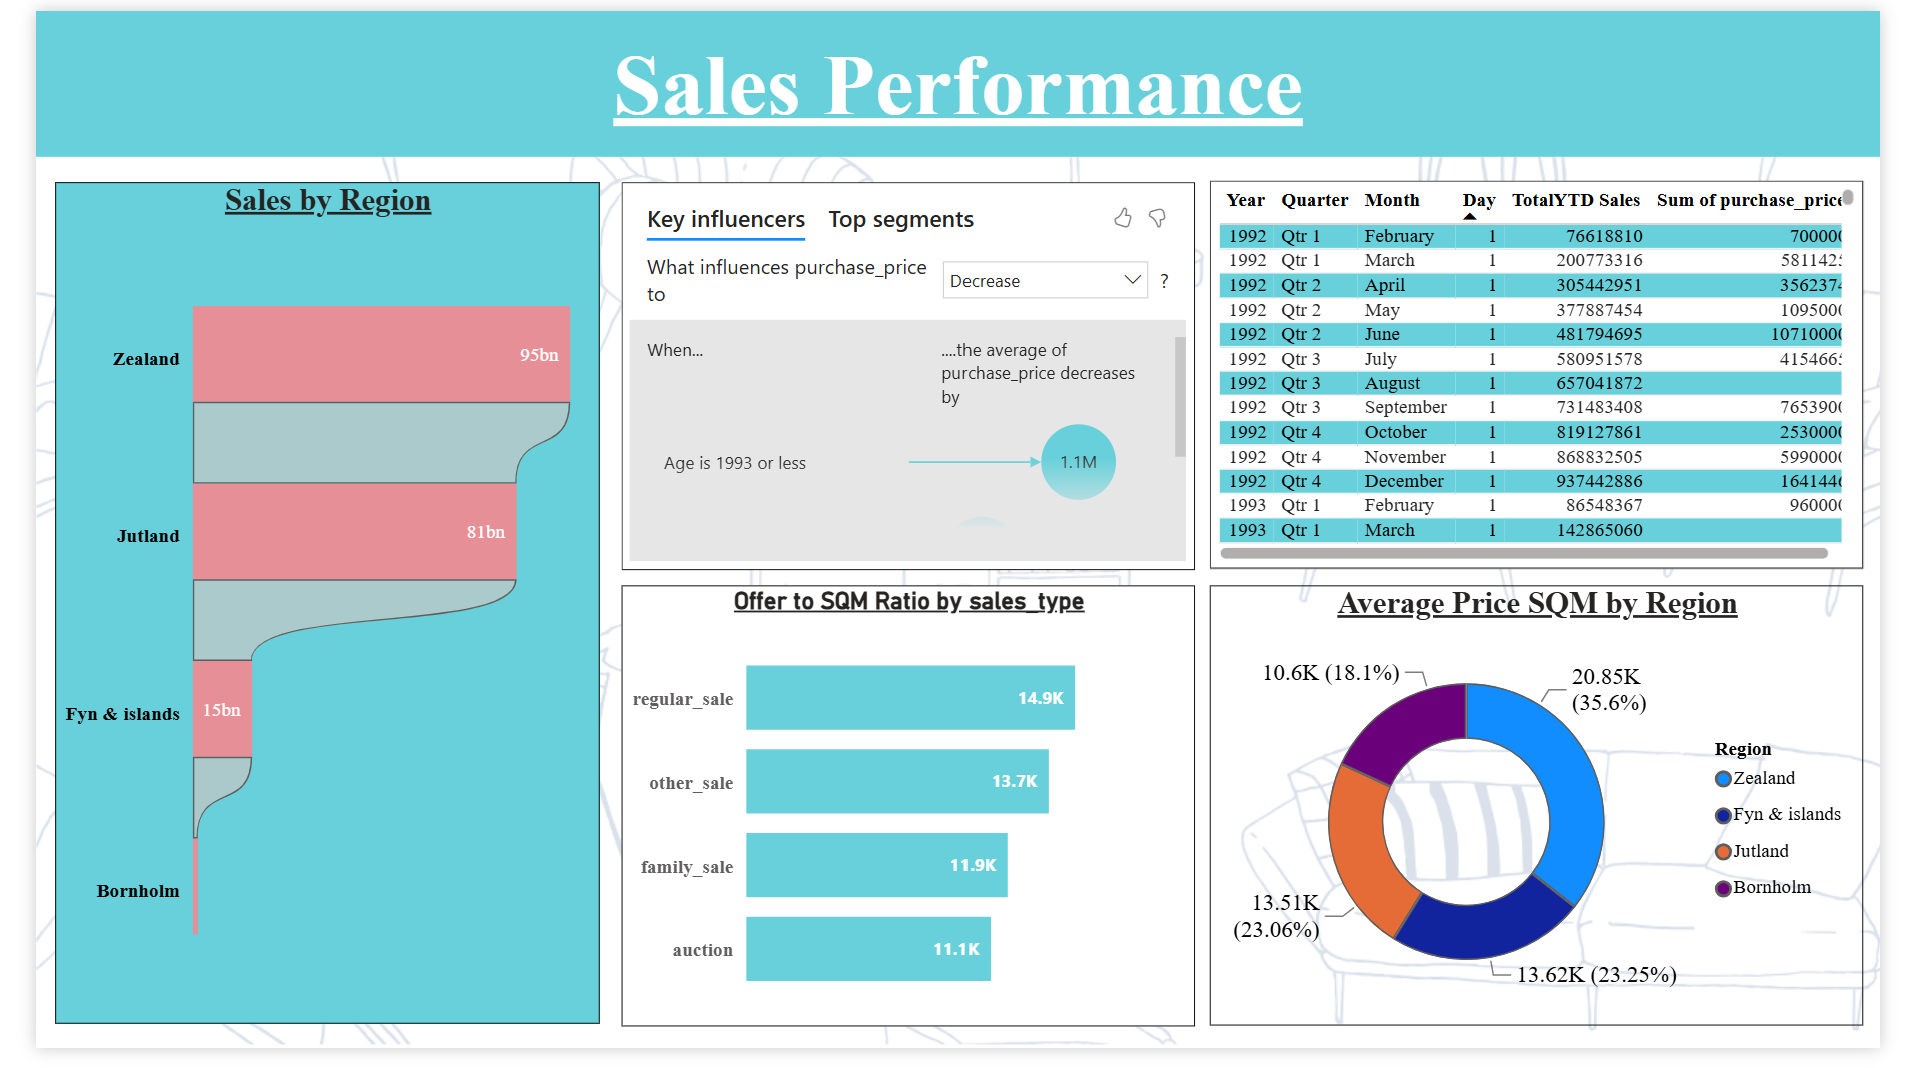

The dashboard page shown, as its layout file describes it:
{"tool":"powerbi","page":{"name":"Sales Performance","canvas":[1280,720],"ordinal":1},"visuals":[{"type":"shape","box":[0,0,1280,101.3],"z":0},{"type":"barChart","title":"Sales by Region ","fields":{"Y":["Measure Table 1.Sales by Region"],"Category":["Housing.region"]},"box":[13.6,118.6,377.9,584.2],"z":1000},{"type":"tableEx","fields":{"Values":["Housing.date.Variation.Date Hierarchy.Year","Housing.date.Variation.Date Hierarchy.Quarter","Housing.date.Variation.Date Hierarchy.Month","Housing.date.Variation.Date Hierarchy.Day","Measure Table 1.TotalYTD Sales","Sum(Housing.purchase_price)"]},"box":[815,118.2,454,269.6],"z":2000},{"type":"donutChart","fields":{"Y":["Measure Table 1.Average Price SQM"],"Category":["Housing.region"]},"box":[815,398.8,454,305.8],"z":3000},{"type":"keyDriversVisual","fields":{"Target":["Housing.purchase_price"],"ExplainBy":["Housing.Age"]},"box":[406.3,118.6,397.7,269.2],"z":4000},{"type":"barChart","fields":{"Y":["Measure Table 1.Offer to SQM Ratio"],"Category":["Housing.sales_type"]},"box":[406.3,398.9,397.7,306.3],"z":5000}]}

Visuals, with their boxes in screenshot pixels (x1, y1, x2, y2), scaled from the page's 1280x720 canvas onto the 1928x1068 screenshot:
shape: 0 0 1927 150
"Sales by Region " barChart: 20 176 590 1042
tableEx - Housing.date.Variation.Date Hierarchy.Year x Housing.date.Variation.Date Hierarchy.Quarter: 1228 175 1911 575
donutChart - Measure Table 1.Average Price SQM x Housing.region: 1228 592 1911 1045
keyDriversVisual - Housing.purchase_price x Housing.Age: 612 176 1211 575
barChart - Measure Table 1.Offer to SQM Ratio x Housing.sales_type: 612 592 1211 1046
